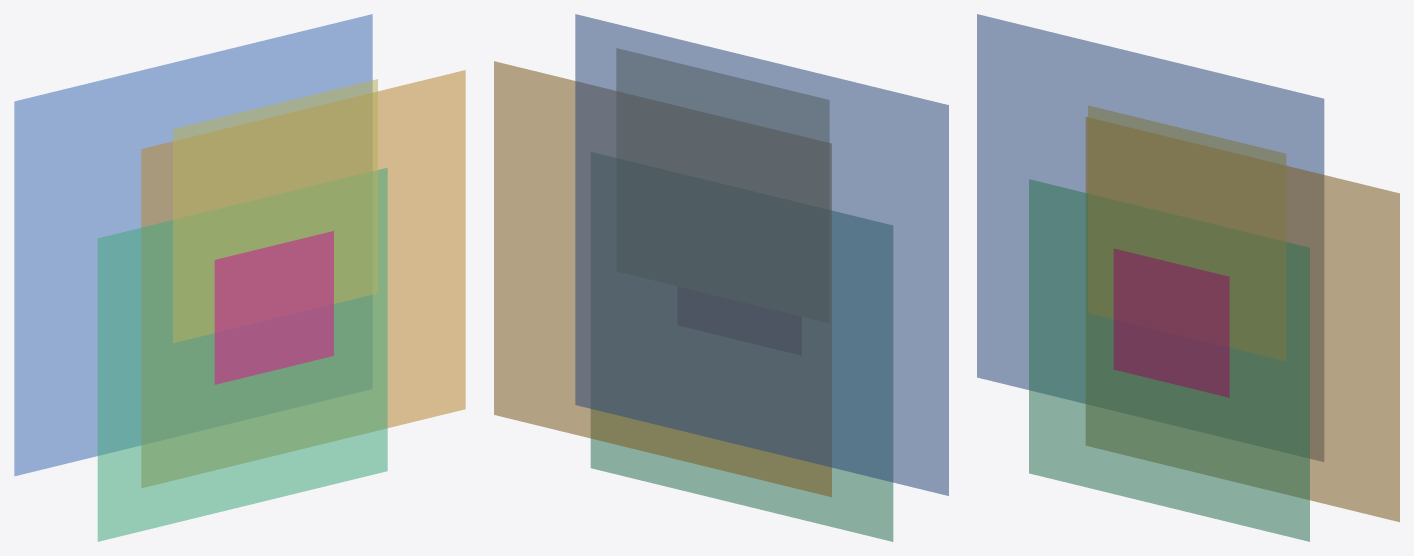
Rendered from mesh-render-order-demo.glb.
3 views of the same model, side by side, from view 1: azimuth 30°, elevation 25°; view 2: azimuth 150°, elevation 25°; view 3: azimuth 330°, elevation 25° (orthographic). The views are drawn at different scales.
Parts seen in each view (by area): view 1: veil_middle, veil_front, veil_back, halo, core; view 2: veil_back, veil_middle, veil_front, halo; view 3: veil_middle, veil_front, veil_back, halo, core.
Part boxes in pixels (bbox=[...]): veil_middle: bbox=[141, 70, 465, 487]; veil_front: bbox=[97, 168, 387, 541]; veil_back: bbox=[14, 14, 372, 475]; halo: bbox=[173, 79, 377, 342]; core: bbox=[214, 231, 333, 384]; veil_back: bbox=[575, 14, 948, 495]; veil_middle: bbox=[494, 61, 831, 496]; veil_front: bbox=[590, 211, 893, 541]; halo: bbox=[616, 48, 829, 142]; veil_middle: bbox=[1085, 117, 1399, 521]; veil_front: bbox=[1029, 179, 1309, 541]; veil_back: bbox=[977, 14, 1324, 461]; halo: bbox=[1088, 105, 1286, 360]; core: bbox=[1113, 248, 1229, 397].
Bounding box in the file's own units: 1.04 × 1 × 0.12.
